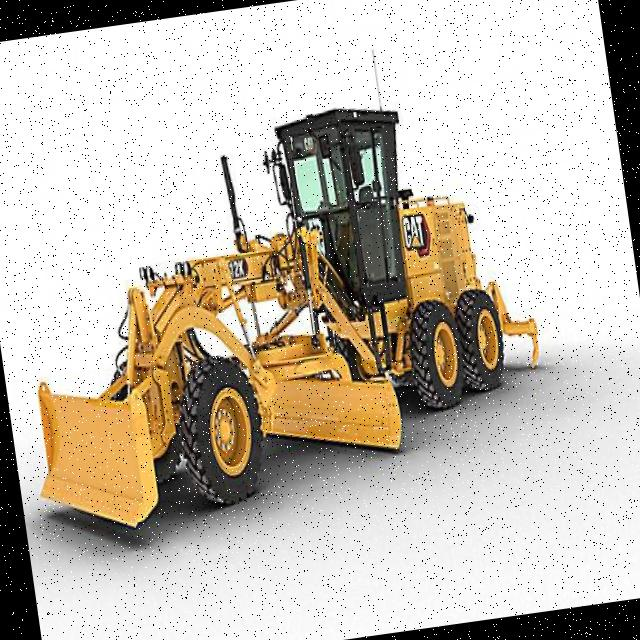Grader: (0, 58, 573, 562)
